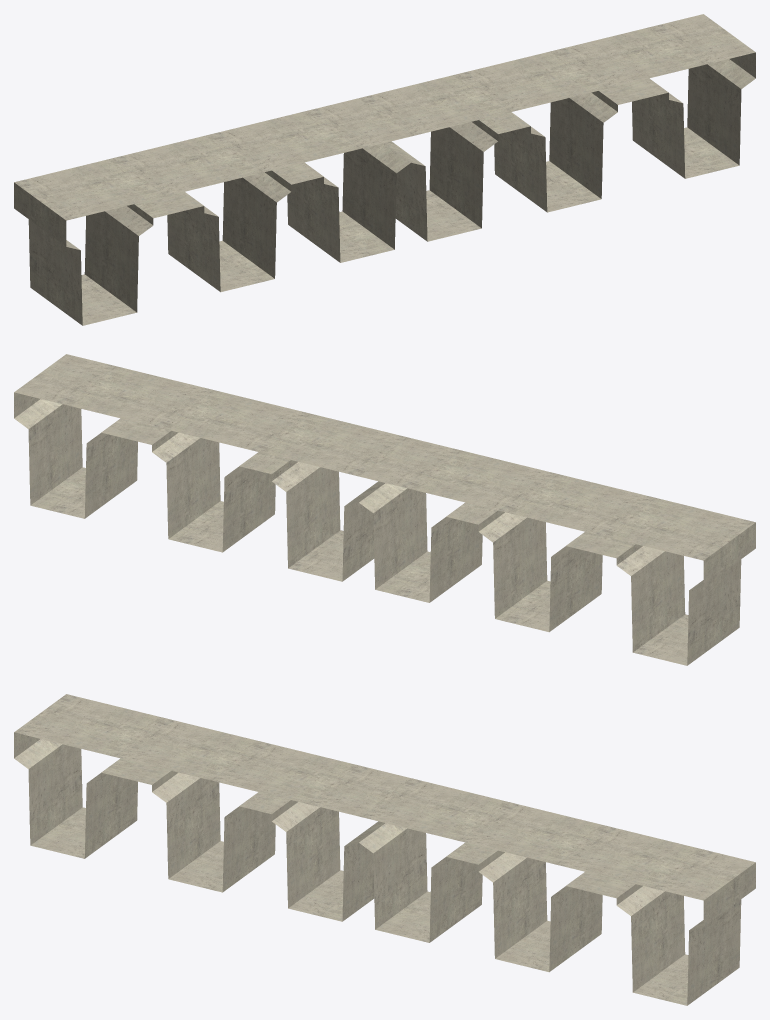
File: BridgeBase4-38w-5l-5d.FBX
3 views of the same model, one above another, from view 1: azimuth 30°, elevation 25°; view 2: azimuth 150°, elevation 25°; view 3: azimuth 330°, elevation 25° (orthographic).
Visible parts, largest first — view 1: BridgeBase4-38w-5l-5d; view 2: BridgeBase4-38w-5l-5d; view 3: BridgeBase4-38w-5l-5d.
Boxes of the visible parts, x1=… form: BridgeBase4-38w-5l-5d: x1=14, y1=14, x2=755, y2=325; BridgeBase4-38w-5l-5d: x1=14, y1=354, x2=755, y2=665; BridgeBase4-38w-5l-5d: x1=14, y1=694, x2=755, y2=1005.
Bounding box in the file's own units: 38 × 5.75 × 5.
